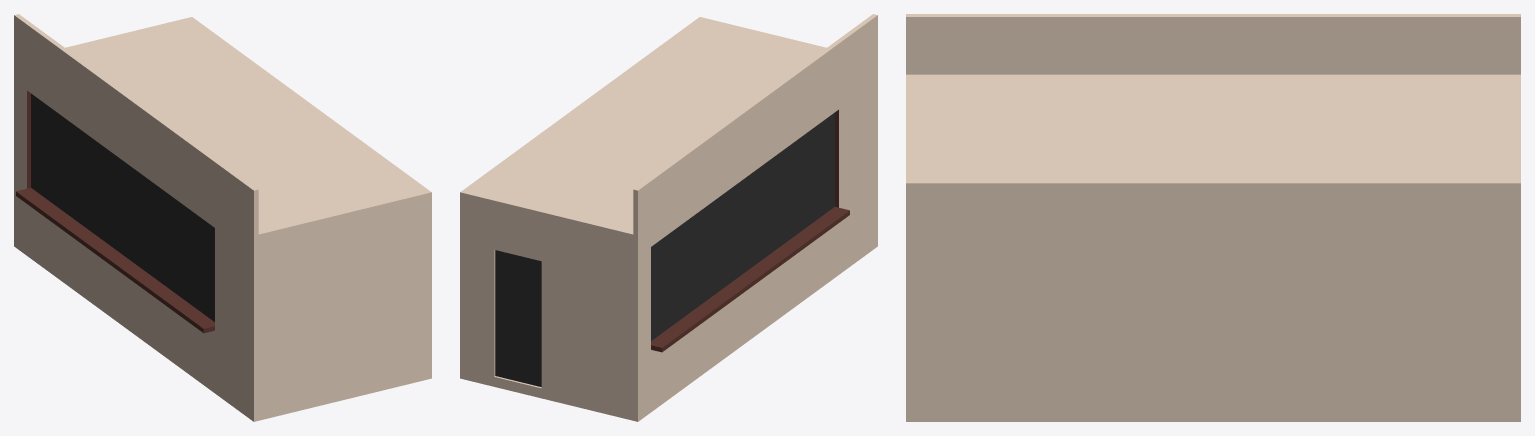
File: LuiroiBaguette.glb
3 views of the same model, side by side, from view 1: azimuth 30°, elevation 25°; view 2: azimuth 150°, elevation 25°; view 3: azimuth 270°, elevation 25° (orthographic). The views are drawn at different scales.
Parts seen in each view (by area): view 1: Cube; view 2: Cube; view 3: Cube.
Boxes of the visible parts, <box> form: Cube: <box>14,14,431,421</box>; Cube: <box>460,14,877,421</box>; Cube: <box>906,14,1520,421</box>.
Size of the model in its own units: 3.19 by 3.73 by 7.
